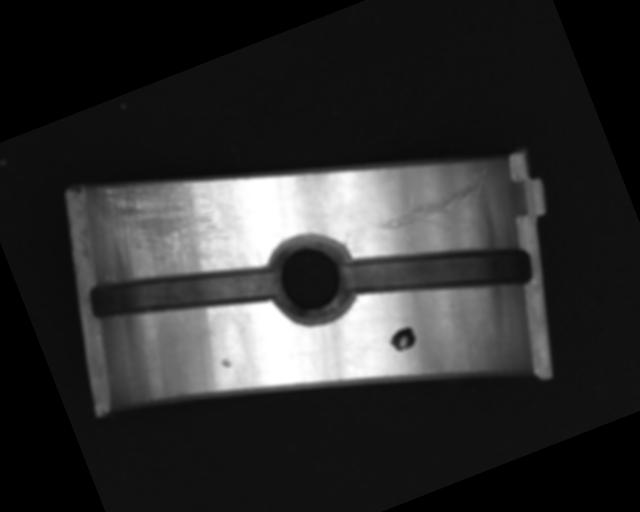blot: (385, 323, 420, 355)
bruise: (219, 357, 234, 369)
gap: (338, 199, 540, 347), (83, 225, 280, 360)
hole: (255, 222, 366, 333)
nick: (370, 167, 505, 258)
scratch: (89, 151, 237, 295)
